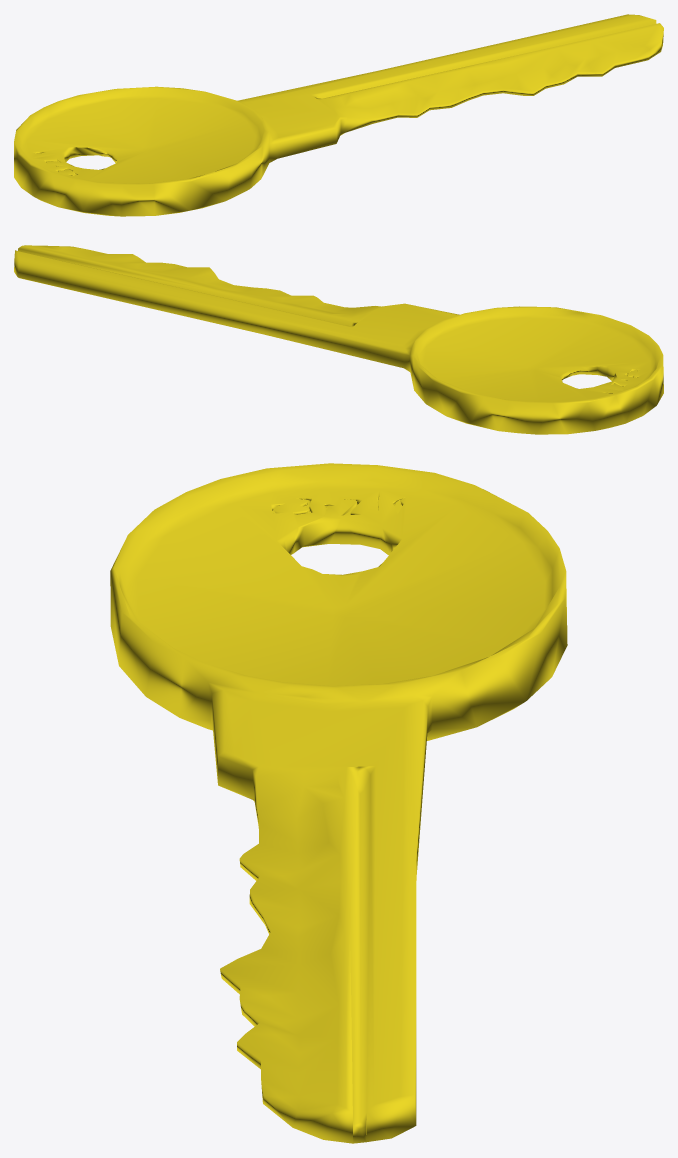
File: Llave.fbx
The picture shows the model from 3 angles, top to bottom: view 1: azimuth 30°, elevation 25°; view 2: azimuth 150°, elevation 25°; view 3: azimuth 270°, elevation 25°; orthographic projection. The views are drawn at different scales.
Visible parts, largest first — view 1: Key; view 2: Key; view 3: Key.
Boxes of the visible parts, left/top/right/bottom form: Key: left=14, top=14, right=663, bottom=216; Key: left=14, top=245, right=663, bottom=434; Key: left=110, top=463, right=567, bottom=1143.
Bounding box in the file's own units: 2.77 × 0.1482 × 0.8723.
